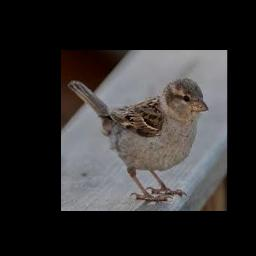Sparrow: (68, 77, 209, 201)
